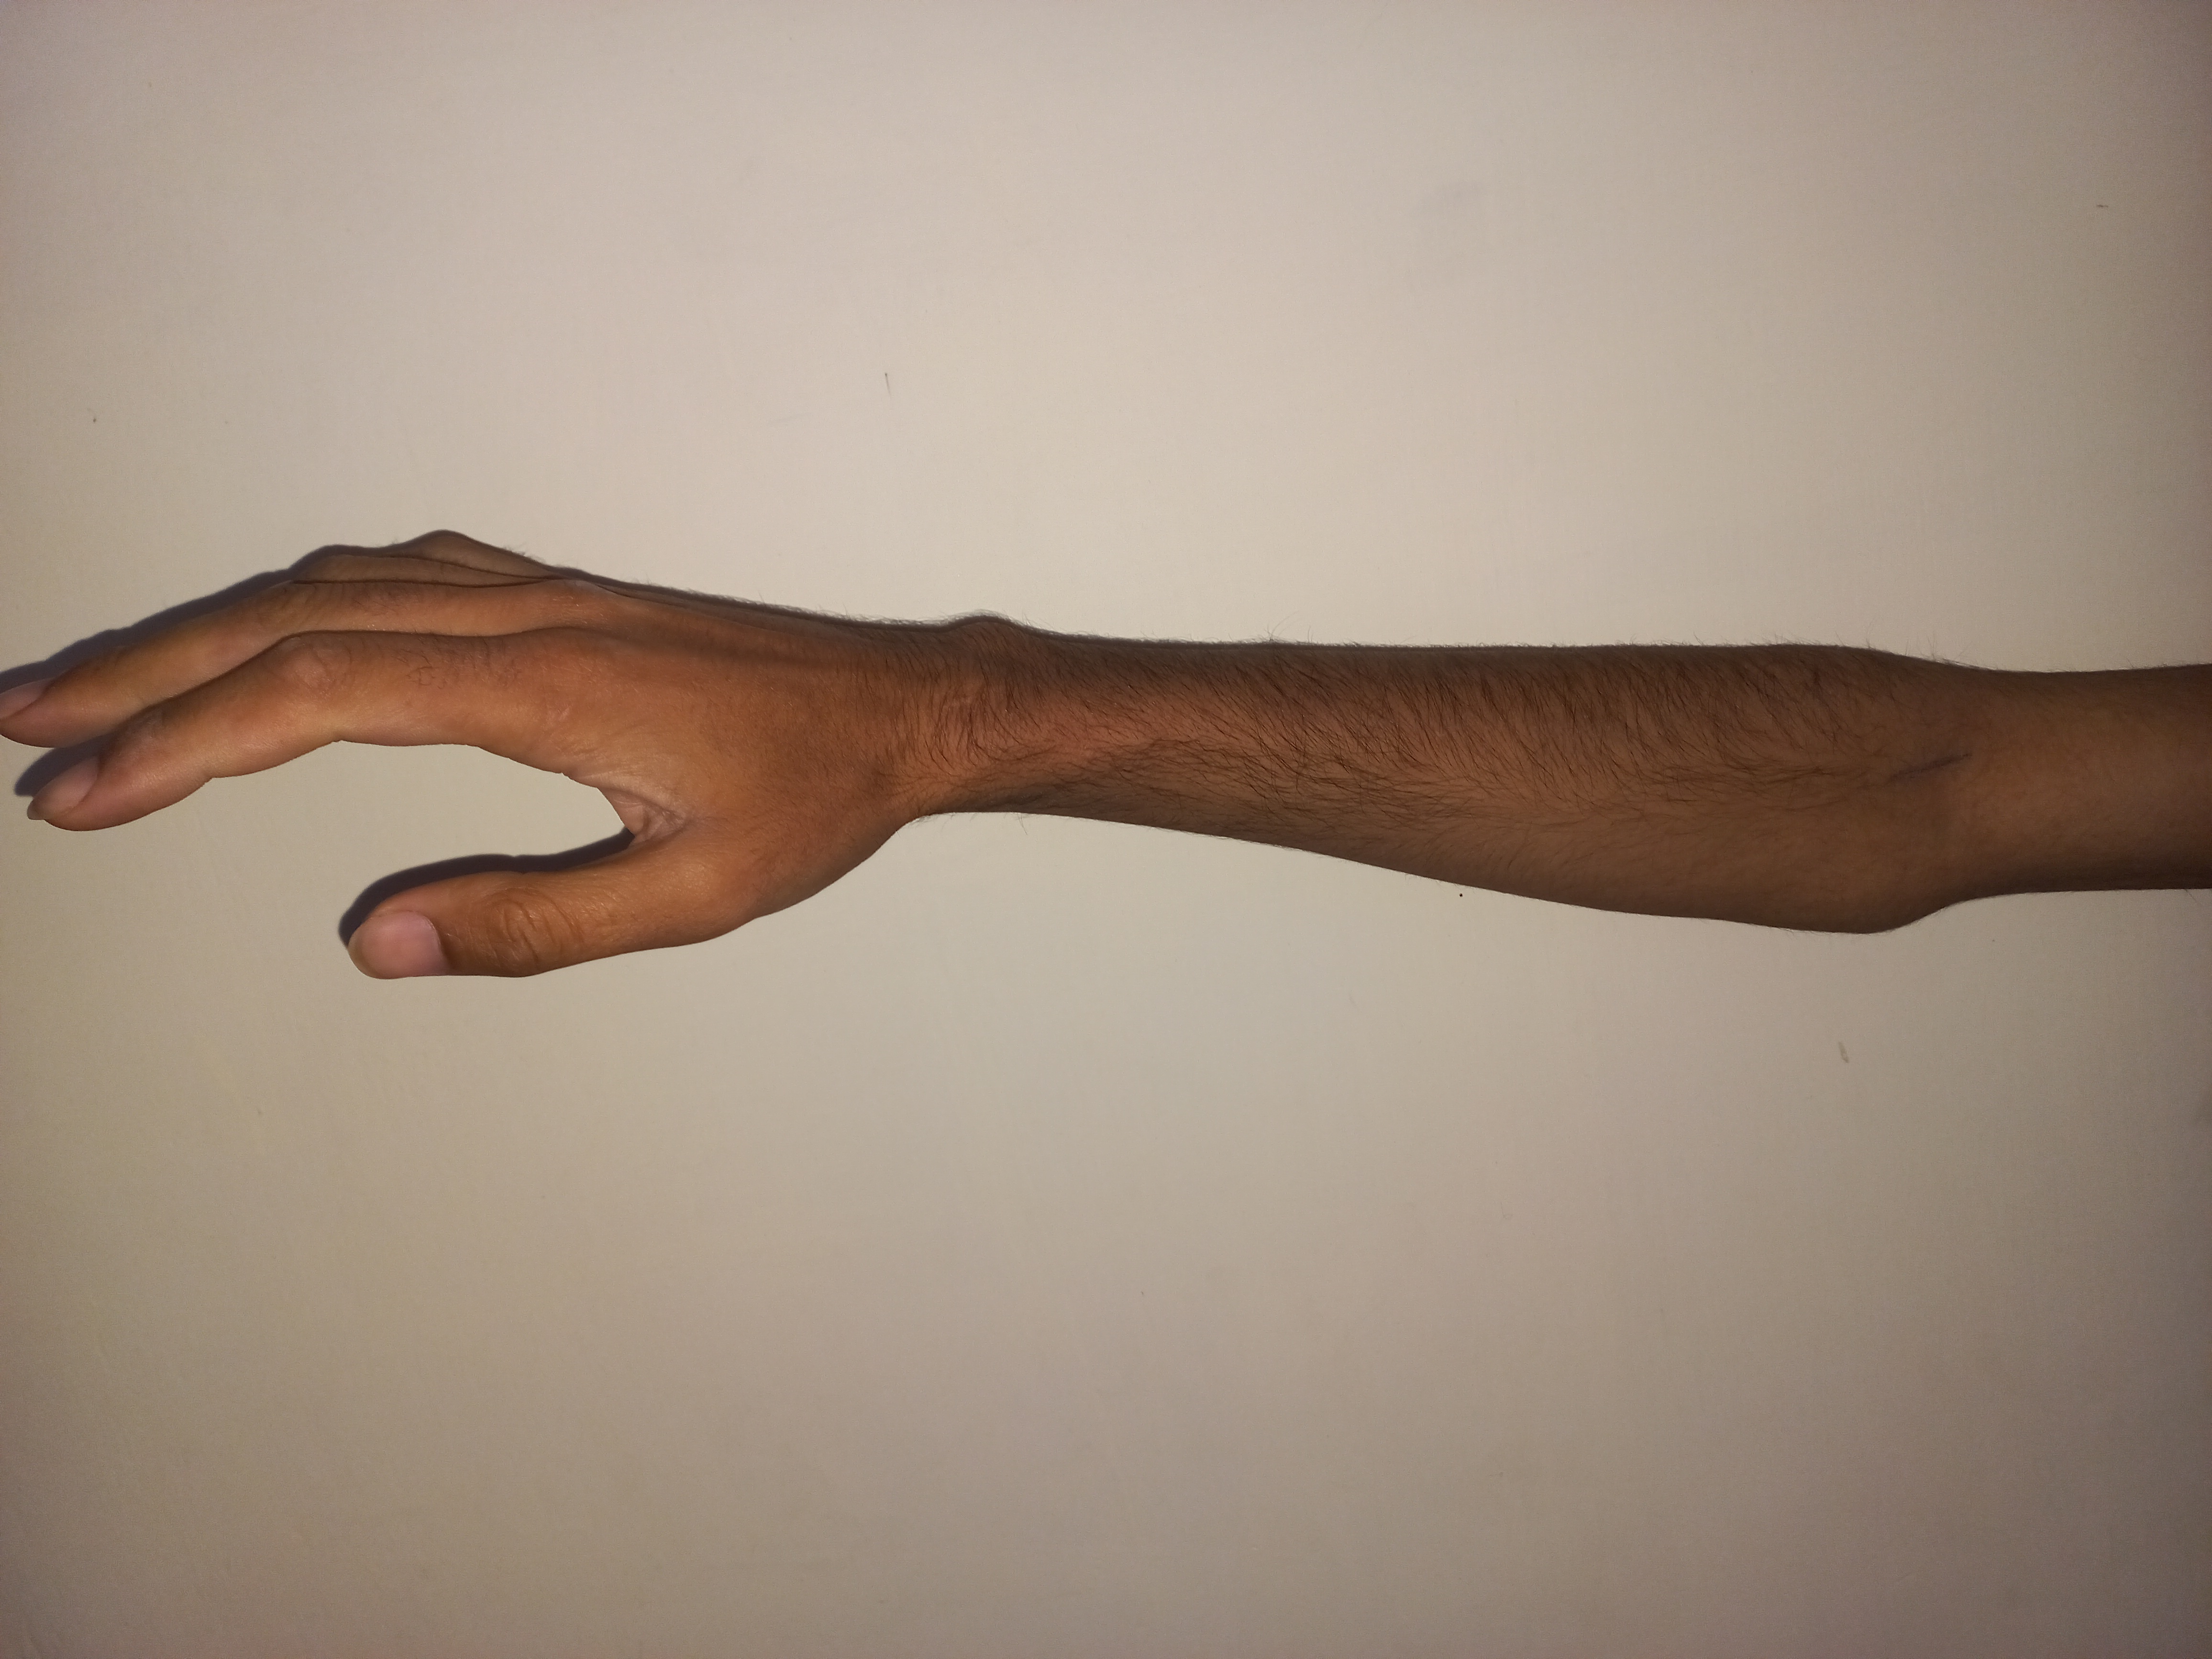vein: (1850, 734, 1984, 798)
